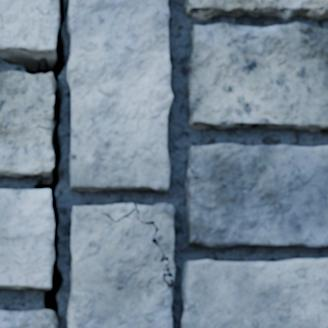brick: (68, 0, 172, 191), (188, 22, 327, 131), (185, 144, 327, 246), (67, 204, 171, 327), (182, 259, 327, 327), (0, 71, 53, 176), (0, 190, 53, 288), (0, 0, 58, 56), (185, 0, 327, 19), (138, 204, 174, 272), (0, 310, 56, 327)
crack: (0, 0, 66, 327), (100, 202, 173, 295), (188, 165, 204, 183)
